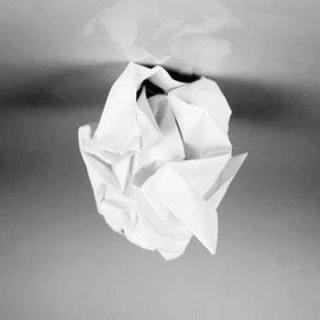Anorganik: (75, 56, 249, 269)
